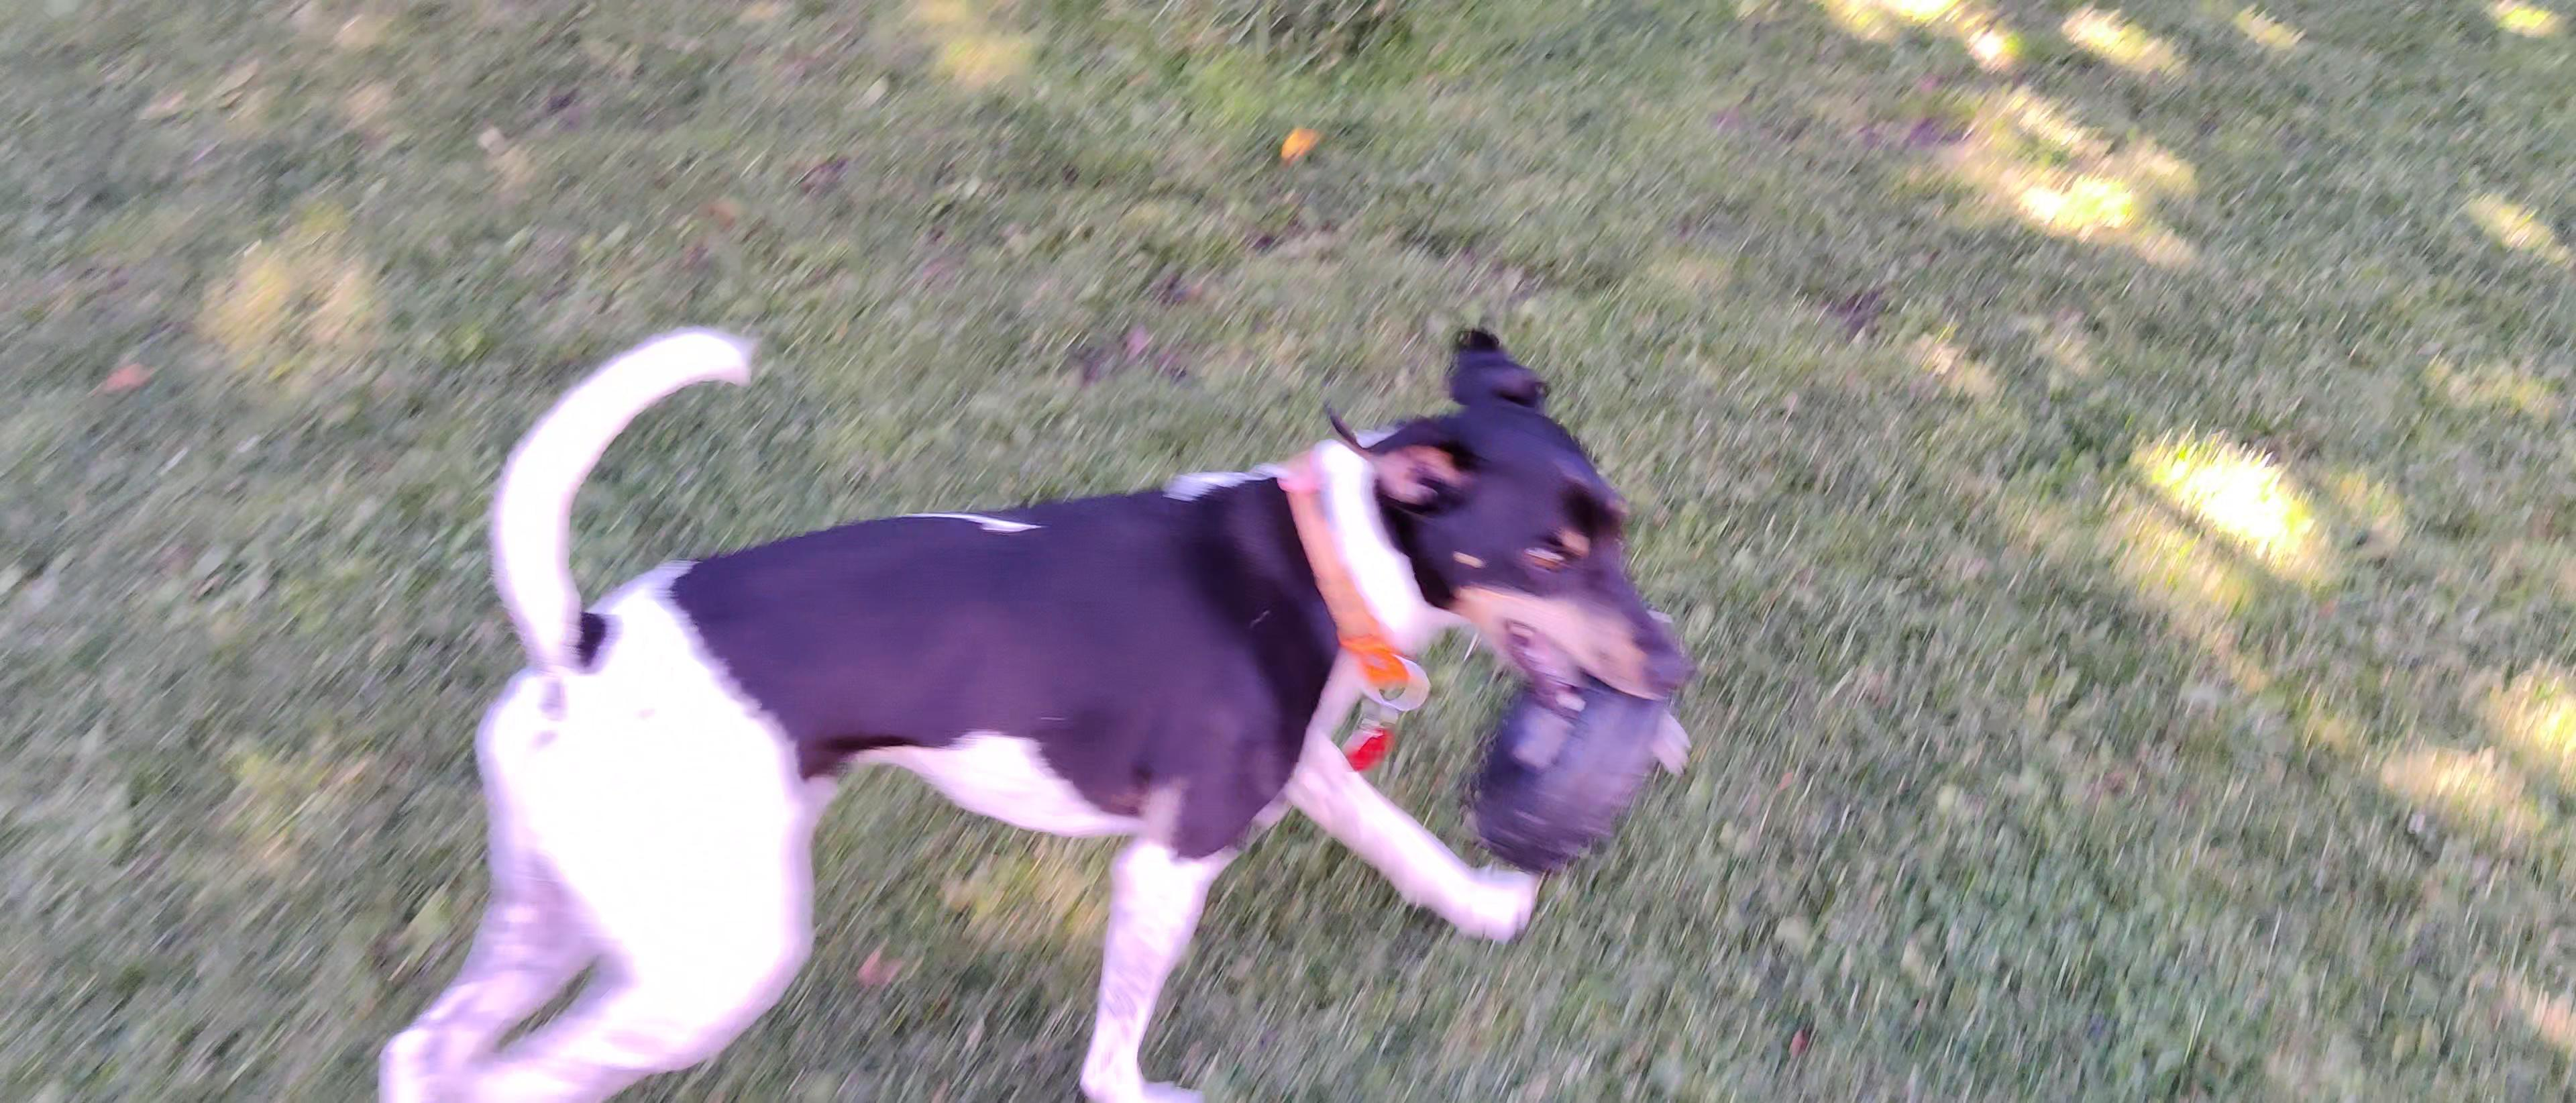Dog: (361, 289, 1707, 1103)
